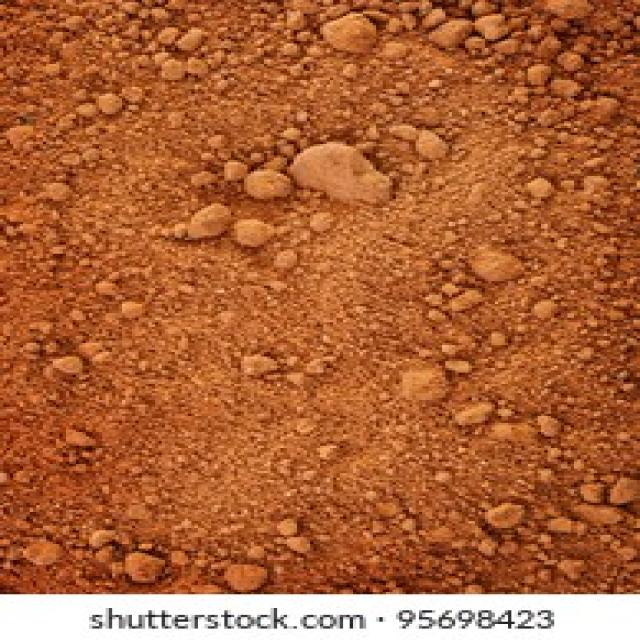Red Soil: (88, 50, 550, 528)
